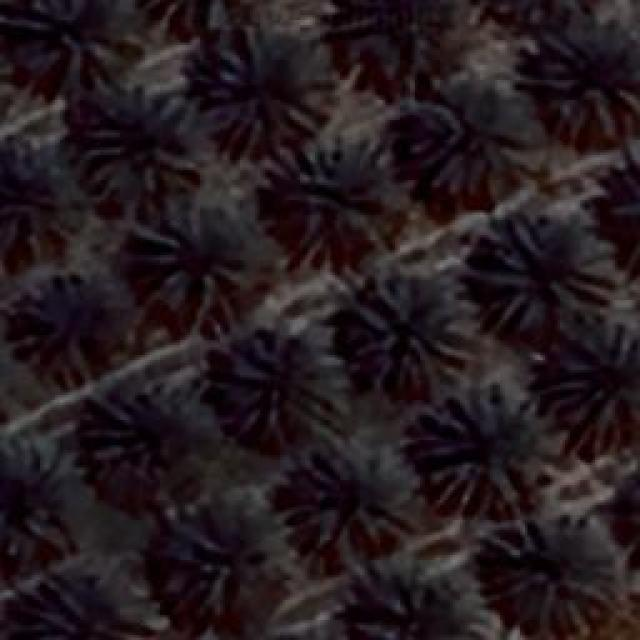PalmTree: (36, 118, 97, 504), (414, 380, 558, 512), (142, 195, 266, 333), (152, 506, 280, 636), (66, 397, 219, 505), (222, 315, 350, 443), (480, 220, 612, 338), (404, 78, 538, 192), (492, 512, 618, 630), (207, 29, 325, 152), (269, 150, 399, 260), (18, 270, 136, 385), (338, 0, 466, 105), (298, 442, 420, 548), (352, 280, 478, 382), (542, 30, 640, 158), (540, 320, 635, 452), (350, 552, 492, 640), (80, 85, 190, 193), (0, 126, 80, 266), (0, 0, 142, 77), (97, 15, 196, 118), (21, 570, 131, 640), (611, 143, 640, 270), (468, 0, 598, 23), (620, 143, 640, 270), (624, 454, 640, 570), (628, 459, 640, 570)
